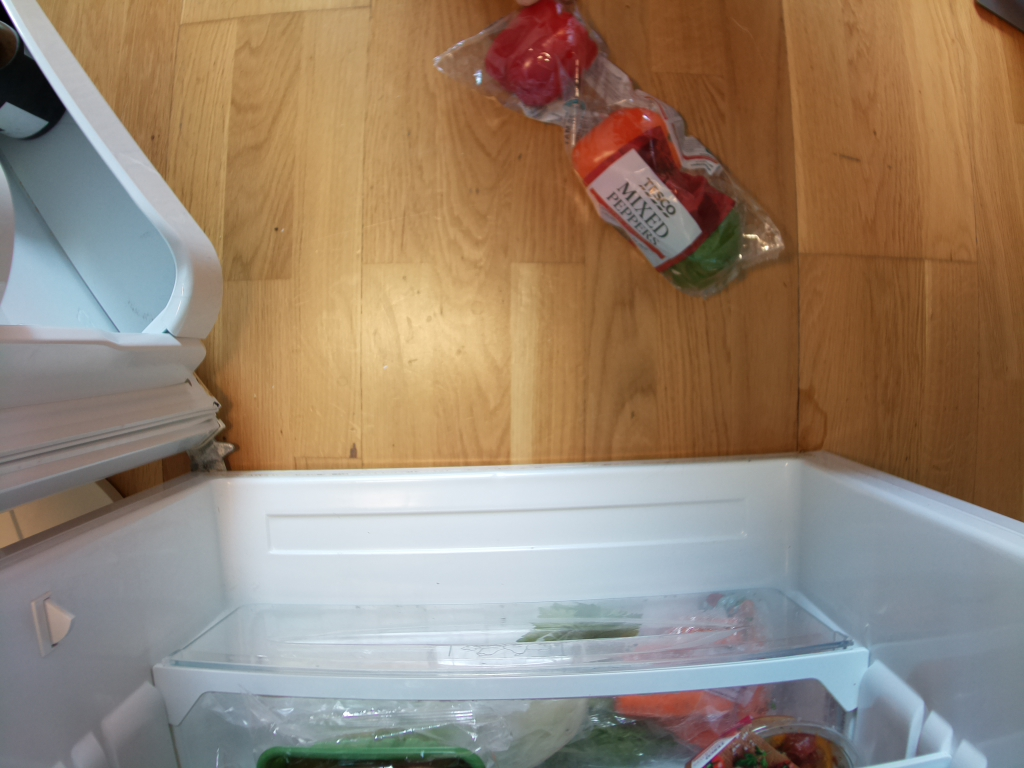pepper: (571, 108, 684, 223), (483, 3, 601, 112), (650, 190, 747, 296)
